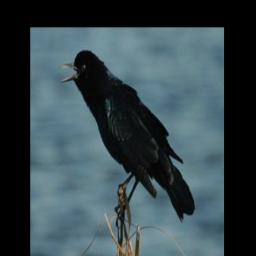Crow: (59, 50, 195, 228)
